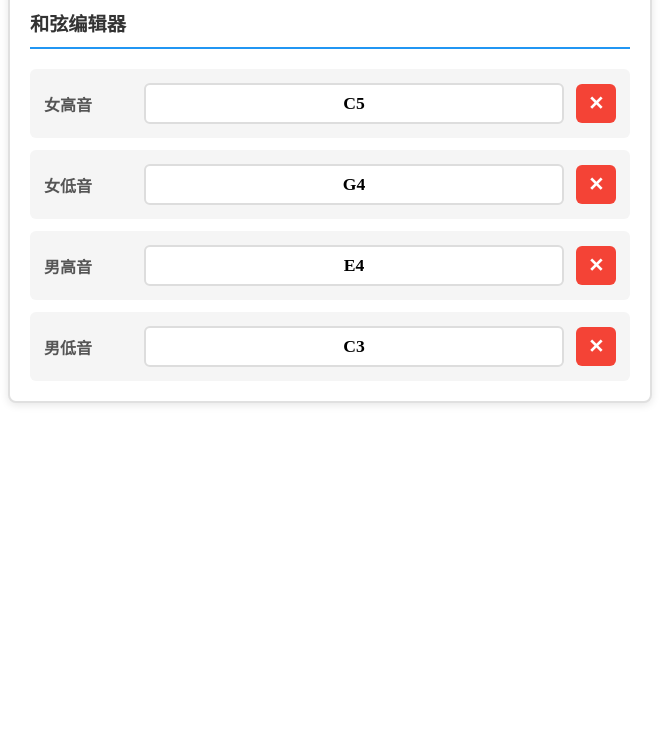
Test: ChordEditor 组件 › 应该在选择音符后关闭编辑面板
Click the text with test id "note-display-0" at (354, 104), box [144,83,564,124]
(page scrolled)
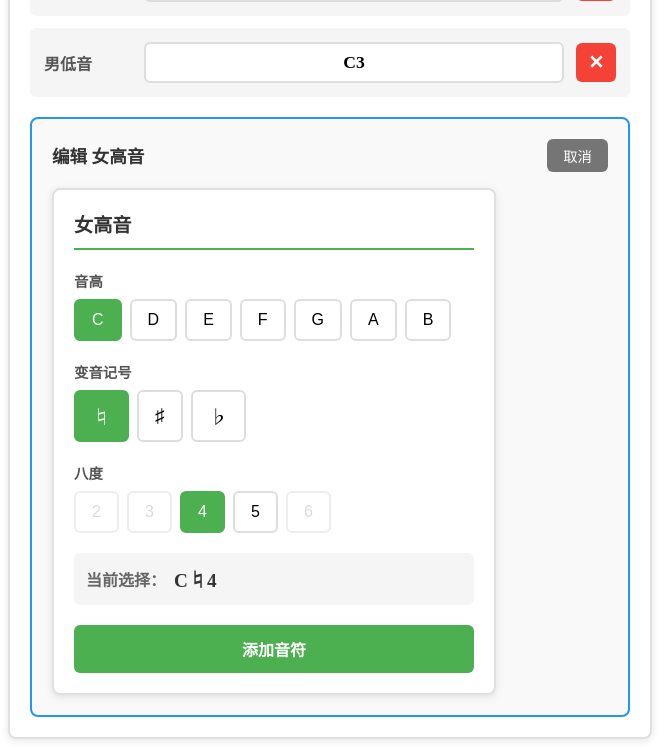
Expected: the element with test id "note-input-panel" is shown
Click the button with test id "confirm-note" at (274, 649), box [74,625,474,673]
(page scrolled)
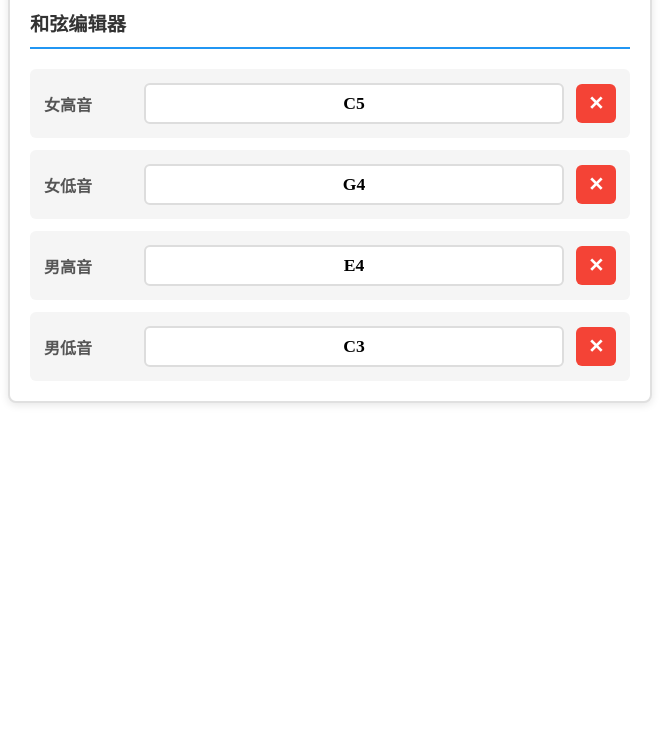
Expected: the element with test id "note-input-panel" is gone
